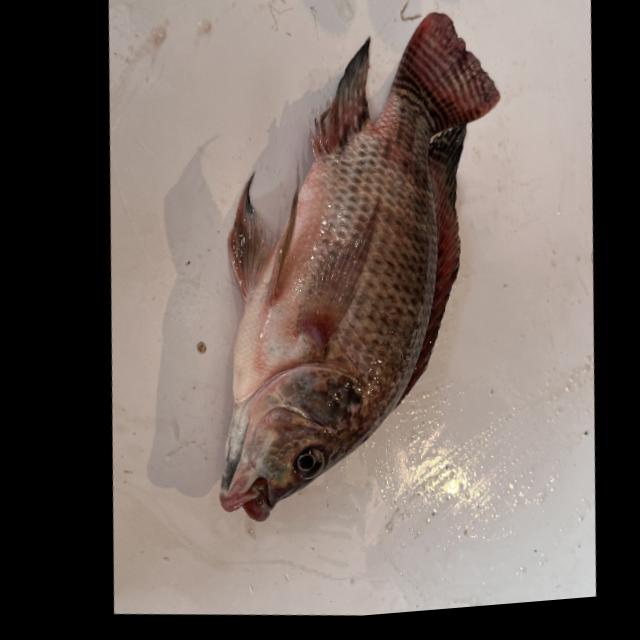Tilapia: (167, 0, 548, 546)
